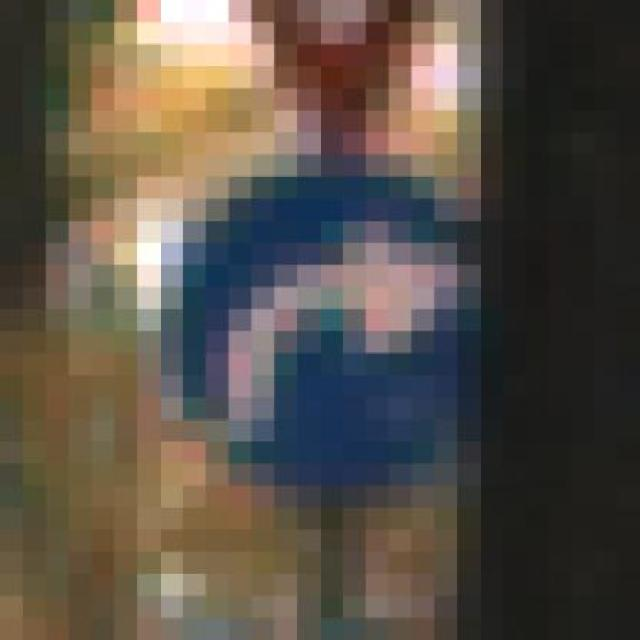Turn right ahead: (114, 132, 503, 508)
